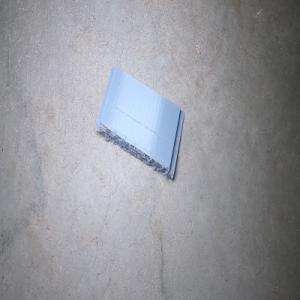PlasticPart: (95, 66, 184, 180)
